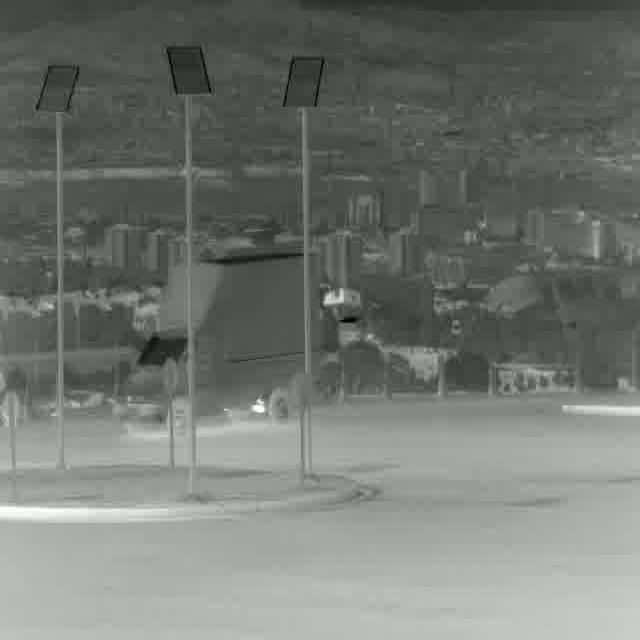Car: (122, 254, 318, 425)
